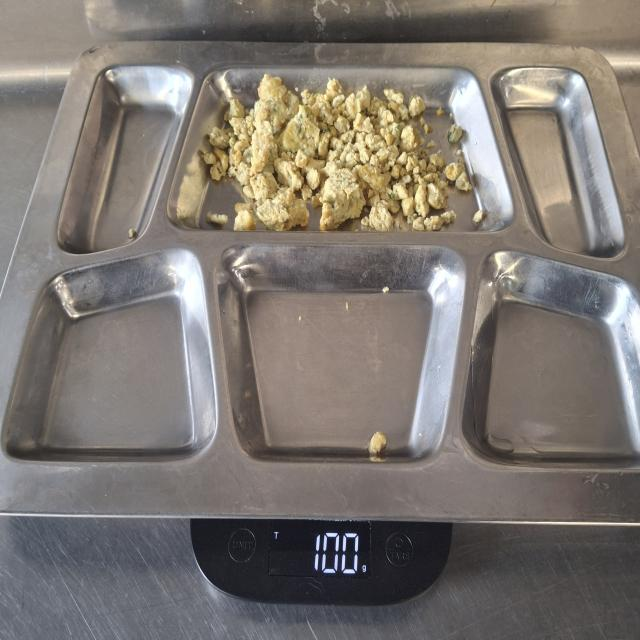Egg Bhurji: (200, 76, 484, 226)
